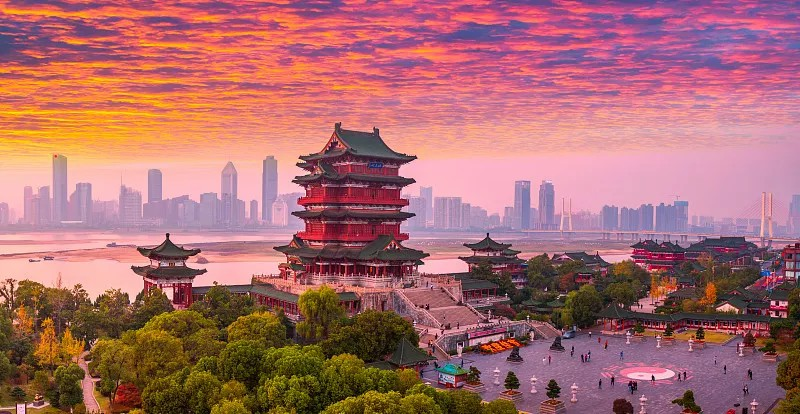Teng: (274, 123, 430, 280)
